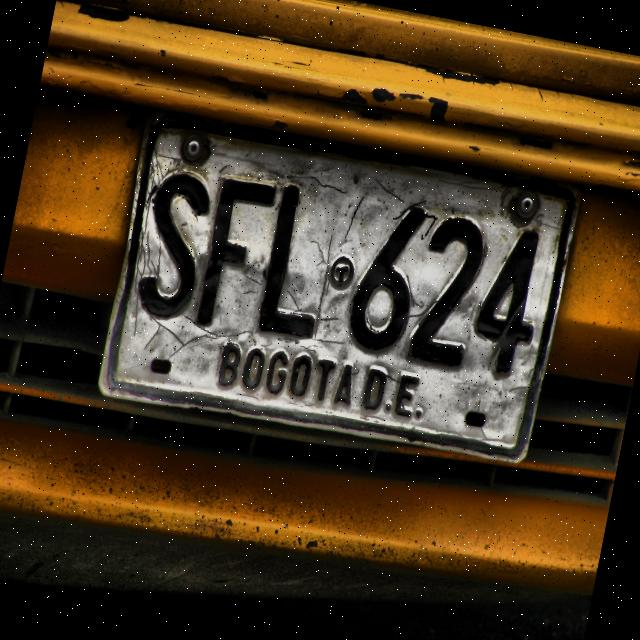2: (403, 208, 496, 382)
4: (466, 222, 556, 388)
6: (342, 198, 434, 360)
F: (189, 172, 279, 338)
L: (250, 180, 344, 348)
S: (129, 158, 220, 328)
